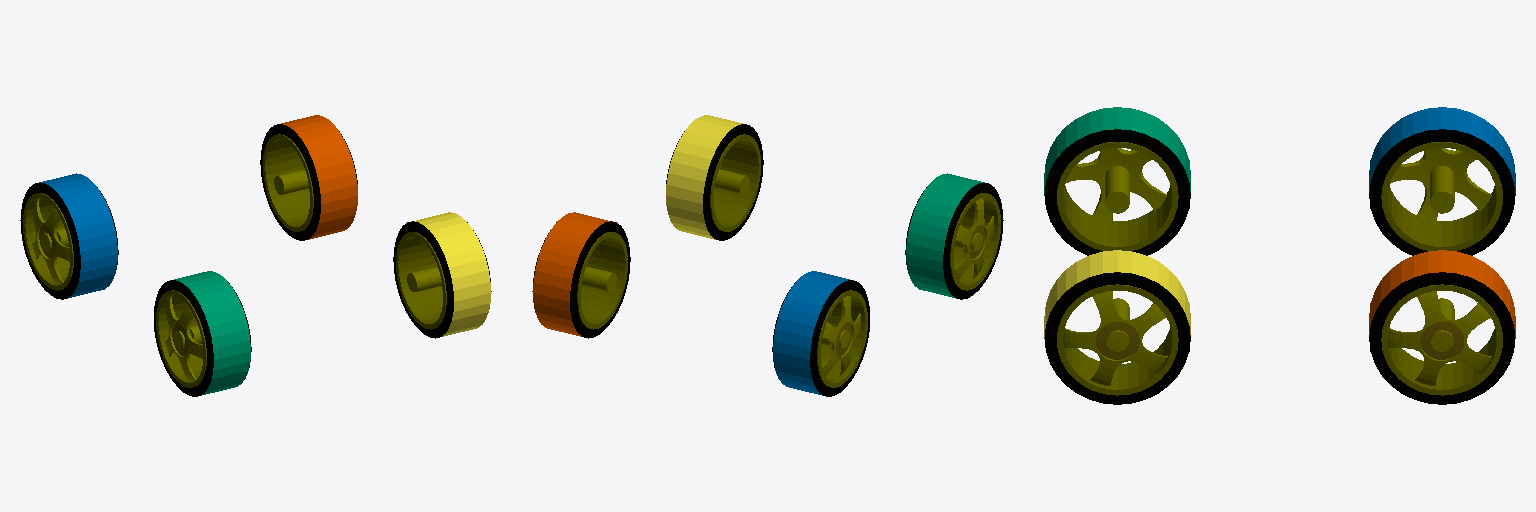
robot.urdf — jetduinobot:
<?xml version="1.0" ?>
<!-- =================================================================================== -->
<!-- |    This document was autogenerated by xacro from jetduinobot.urdf.xacro         | -->
<!-- |    EDITING THIS FILE BY HAND IS NOT RECOMMENDED                                 | -->
<!-- =================================================================================== -->
<!--
  The complete jetduinobot library of xacros for easy reference
 -->
<robot name="jetduinobot" xmlns:xacro="http://ros.org/wiki/xacro">
  <!-- General -->
  <!-- 
    These properties must be observed by any machine
    that wants to be defined as a jetduinobot. Refer
    to the REP for more details.
    
    http://www.ros.org/reps/rep-0119.html
   -->
  <!-- Bases -->
  <link name="world_link"/>
  <link name="base_link">
    <visual>
      <geometry>
        <mesh filename="package://jetduinobot_description/meshes/chassis.dae" scale="0.1 0.1 0.1"/>
      </geometry>
      <origin rpy="0 0 0" xyz="0 -0.0075 -0.029"/>
      <material name="silver">
        <color rgba="0.75 0.75 0.75 1"/>
      </material>
    </visual>
    <collision>
      <geometry>
        <box size="0.185 0.225 0.058"/>
      </geometry>
    </collision>
    <inertial>
      <mass value="0.5"/>
      <inertia ixx="0.015" ixy="0" ixz="0" iyy="0.0375" iyz="0" izz="0.0375"/>
    </inertial>
  </link>
  <joint name="base_joint" type="fixed">
    <parent link="world_link"/>
    <child link="base_link"/>
    <origin rpy="0 0 0" xyz="0 0 0"/>
  </joint>
  <!-- rear wheels -->
  <!-- right rear wheel -->
  <link name="right_rear_wheel_link">
    <visual>
      <geometry>
        <mesh filename="package://jetduinobot_description/meshes/wheel.dae" scale="0.1 0.1 0.1"/>
      </geometry>
    </visual>
    <collision>
      <geometry>
        <cylinder length="0.025" radius="0.029"/>
      </geometry>
    </collision>
    <inertial>
      <mass value="0.05"/>
      <inertia ixx="5.1458e-5" ixy="0" ixz="0" iyy="5.1458e-5" iyz="0" izz="6.125e-5"/>
    </inertial>
  </link>
  <joint name="right_rear_wheel_joint" type="continuous">
    <axis xyz="0 0 1"/>
    <parent link="base_link"/>
    <child link="right_rear_wheel_link"/>
    <origin rpy="0 -1.5708 0" xyz="-0.07 -0.0875 -0.017"/>
  </joint>

  <!-- left rear wheel -->
  <link name="left_rear_wheel_link">
    <visual>
      <geometry>
        <mesh filename="package://jetduinobot_description/meshes/wheel.dae" scale="0.1 0.1 0.1"/>
      </geometry>
      <material name="black"/>
    </visual>
    <collision>
      <geometry>
        <cylinder length="0.025" radius="0.029"/>
      </geometry>
    </collision>
    <inertial>
      <mass value="0.1"/>
      <inertia ixx="5.1458e-5" ixy="0" ixz="0" iyy="5.1458e-5" iyz="0" izz="6.125e-5"/>
    </inertial>
  </link>
  <joint name="left_rear_wheel_joint" type="continuous">
    <axis xyz="0 0 1"/>
    <parent link="base_link"/>
    <child link="left_rear_wheel_link"/>
    <origin rpy="0 1.5708 0" xyz="0.07 -0.0875 -0.017"/>
  </joint>

  <!-- front wheels -->
  <!-- right front wheel -->
  <link name="right_front_wheel_link">
    <visual>
      <geometry>
        <mesh filename="package://jetduinobot_description/meshes/wheel.dae" scale="0.1 0.1 0.1"/>
      </geometry>
      <material name="black"/>
    </visual>
    <collision>
      <geometry>
        <cylinder length="0.025" radius="0.029"/>
      </geometry>
    </collision>
    <inertial>
      <mass value="0.05"/>
      <inertia ixx="5.1458e-5" ixy="0" ixz="0" iyy="5.1458e-5" iyz="0" izz="6.125e-5"/>
    </inertial>
  </link>
  <joint name="right_front_wheel_joint" type="continuous">
    <axis xyz="0 0 1"/>
    <parent link="base_link"/>
    <child link="right_front_wheel_link"/>
    <origin rpy="0 -1.5708 0" xyz="-0.07 0.0455 -0.017"/>
  </joint>

  <!-- left front wheel -->
  <link name="left_front_wheel_link">
    <visual>
      <geometry>
        <mesh filename="package://jetduinobot_description/meshes/wheel.dae" scale="0.1 0.1 0.1"/>
      </geometry>
      <material name="black"/>
    </visual>
    <collision>
      <geometry>
        <cylinder length="0.025" radius="0.029"/>
      </geometry>
    </collision>
    <inertial>
      <mass value="0.1"/>
      <inertia ixx="5.1458e-5" ixy="0" ixz="0" iyy="5.1458e-5" iyz="0" izz="6.125e-5"/>
    </inertial>
  </link>
  <joint name="left_front_wheel_joint" type="continuous">
    <axis xyz="0 0 1"/>
    <parent link="base_link"/>
    <child link="left_front_wheel_link"/>
    <origin rpy="0 1.5708 0" xyz="0.07 0.0455 -0.017"/>
  </joint>
  <gazebo>
    <plugin filename="libgazebo_ros_skid_steer_drive.so" name="skid_steer_drive_controller">
      <leftFrontJoint>left_front_wheel_joint</leftFrontJoint>
      <rightFrontJoint>right_front_wheel_joint</rightFrontJoint>
      <leftRearJoint>left_rear_wheel_joint</leftRearJoint>
      <rightRearJoint>right_rear_wheel_joint</rightRearJoint>
      <wheelSeparation>0.148</wheelSeparation>
      <wheelDiameter>0.065</wheelDiameter>
      <robotBaseFrame>base_link</robotBaseFrame>
      <torque>20</torque>
    </plugin>
  </gazebo>


  <!-- Stacks -->
  <!-- 3D Sensors -->
</robot>

--- Facts derived from the render (not from the file) ---
Views: 3 orthographic renders of the robot side by side, from view 1: azimuth 30°, elevation 25°; view 2: azimuth 150°, elevation 25°; view 3: azimuth 270°, elevation 25°.
Robot: jetduinobot — 6 links, 5 joints (4 continuous, 1 fixed); root link world_link; default pose: every joint at zero.
Visible links, largest first — view 1: left_rear_wheel_link, right_front_wheel_link, right_rear_wheel_link, left_front_wheel_link; view 2: right_rear_wheel_link, left_front_wheel_link, left_rear_wheel_link, right_front_wheel_link; view 3: left_front_wheel_link, left_rear_wheel_link, right_front_wheel_link, right_rear_wheel_link.
Link boxes in pixels (bbox=[...]): left_rear_wheel_link: bbox=[393, 212, 491, 338]; right_front_wheel_link: bbox=[20, 173, 118, 299]; right_rear_wheel_link: bbox=[154, 271, 251, 396]; left_front_wheel_link: bbox=[260, 115, 357, 240]; right_rear_wheel_link: bbox=[905, 173, 1003, 299]; left_front_wheel_link: bbox=[532, 212, 630, 338]; left_rear_wheel_link: bbox=[666, 115, 763, 240]; right_front_wheel_link: bbox=[772, 271, 869, 396]; left_front_wheel_link: bbox=[1369, 250, 1515, 404]; left_rear_wheel_link: bbox=[1044, 250, 1190, 404]; right_front_wheel_link: bbox=[1369, 107, 1515, 255]; right_rear_wheel_link: bbox=[1044, 107, 1190, 255].
Bounding box of the posed robot: 0.1664 × 0.193 × 0.06 m (x, y, z).
Meshes: 2 distinct files referenced, 4 mesh visuals loaded (1 Collada DAE); not drawn: 1 (file found but could not be loaded).